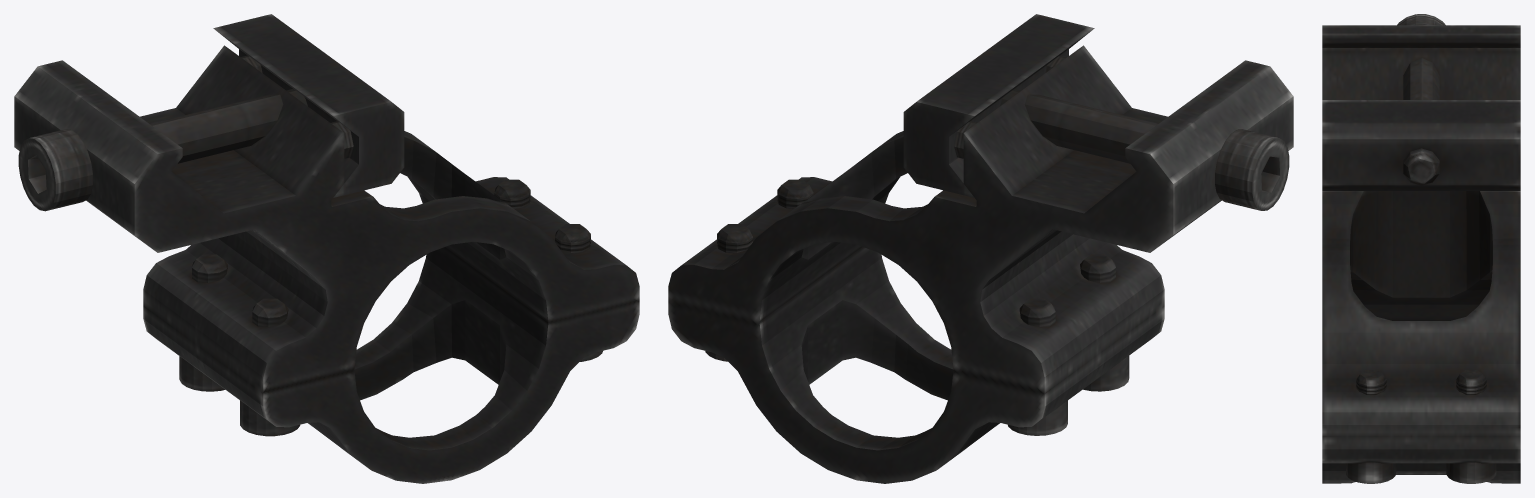
The picture shows the model from 3 angles, left to right: view 1: azimuth 30°, elevation 25°; view 2: azimuth 150°, elevation 25°; view 3: azimuth 270°, elevation 25°; orthographic projection. The views are drawn at different scales.
Visible parts, largest first — view 1: TW_6267c6396b642f77f56f5c1c_PZ_Import; view 2: TW_6267c6396b642f77f56f5c1c_PZ_Import; view 3: TW_6267c6396b642f77f56f5c1c_PZ_Import.
Boxes of the visible parts, x1=… form: TW_6267c6396b642f77f56f5c1c_PZ_Import: x1=14, y1=14, x2=639, y2=483; TW_6267c6396b642f77f56f5c1c_PZ_Import: x1=668, y1=14, x2=1293, y2=483; TW_6267c6396b642f77f56f5c1c_PZ_Import: x1=1322, y1=14, x2=1520, y2=483.
Size of the model in its own units: 0.0397 by 0.0152 by 0.0278.
Materials: 1 (1 with a texture image).
